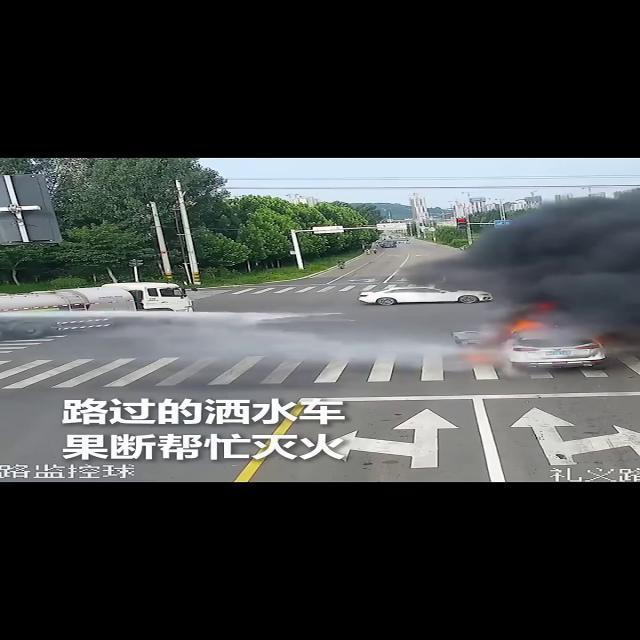Smoke: (442, 186, 640, 345)
